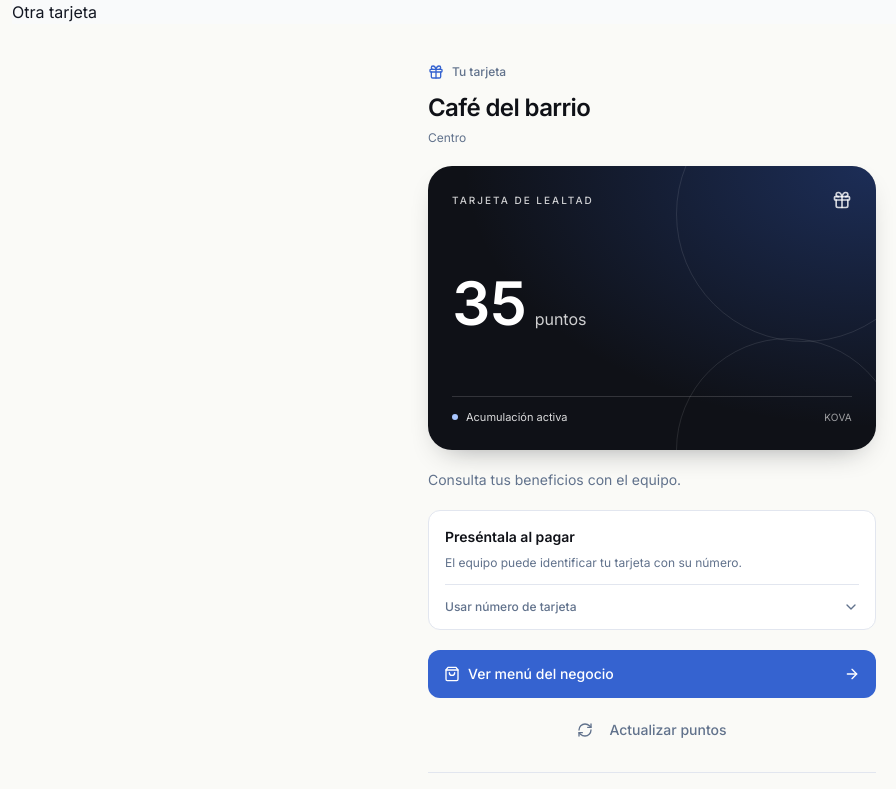
Test: reads the device membership with its protected cookie and keeps an existing card visible when enrollment is paused
Click the heading "Usar número de tarjeta" at (511, 607), box [445,599,859,615]
(page scrolled)
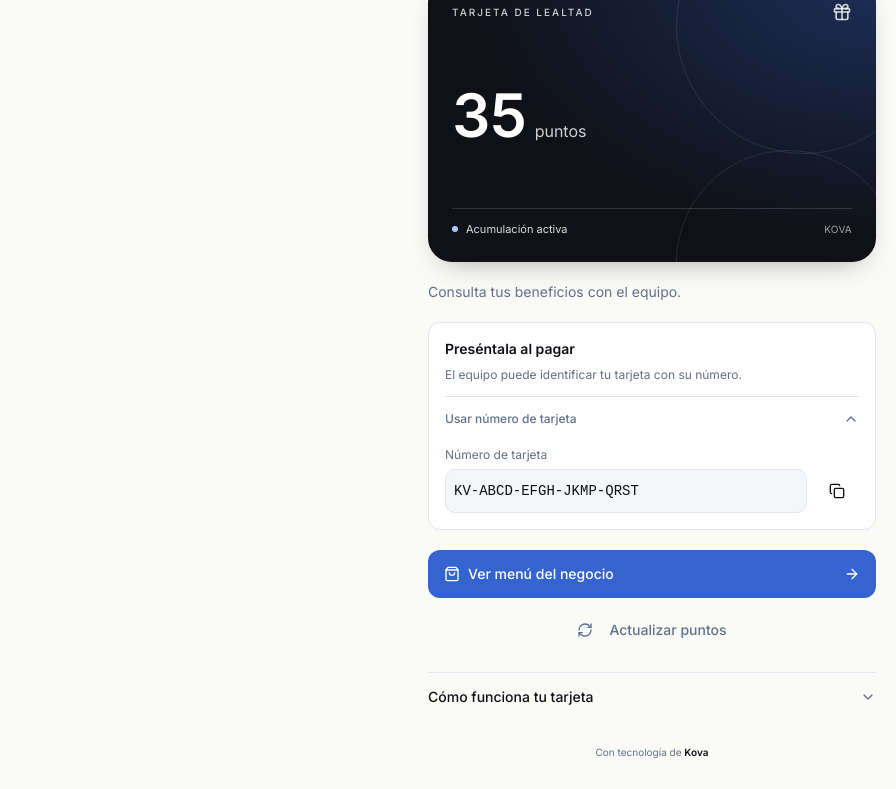
Expected: the text named "Tus puntos" reads "35", [452,79,527,151]
Expected: the field labelled "Número de tarjeta" holds "KV-ABCD-EFGH-JKMP-QRST", [445,469,807,513]
Click the heading "Cómo funciona tu tarjeta" at (511, 697), box [428,688,876,705]
(page scrolled)
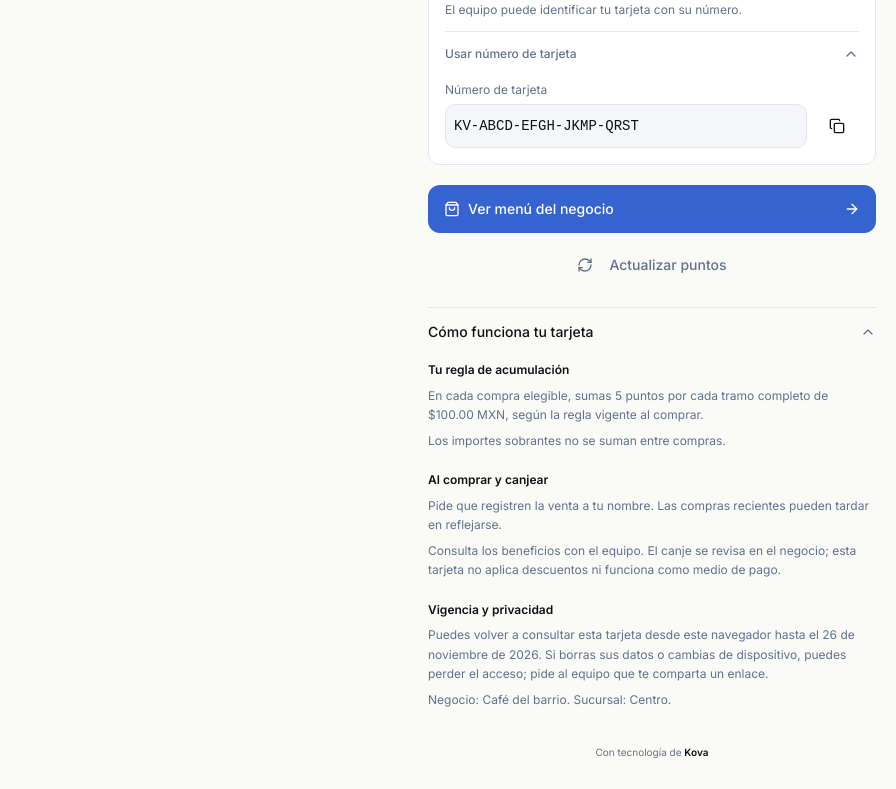
Expected: the text "Puedes volver a consultar esta tarjeta desde este navegador hasta" is shown, [428,627,855,681]
